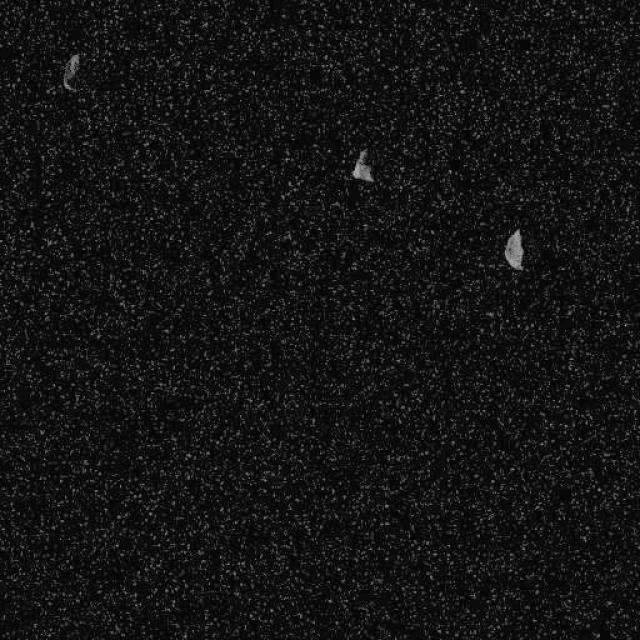D2: (502, 228, 524, 270), (350, 146, 375, 182), (61, 51, 81, 91)
